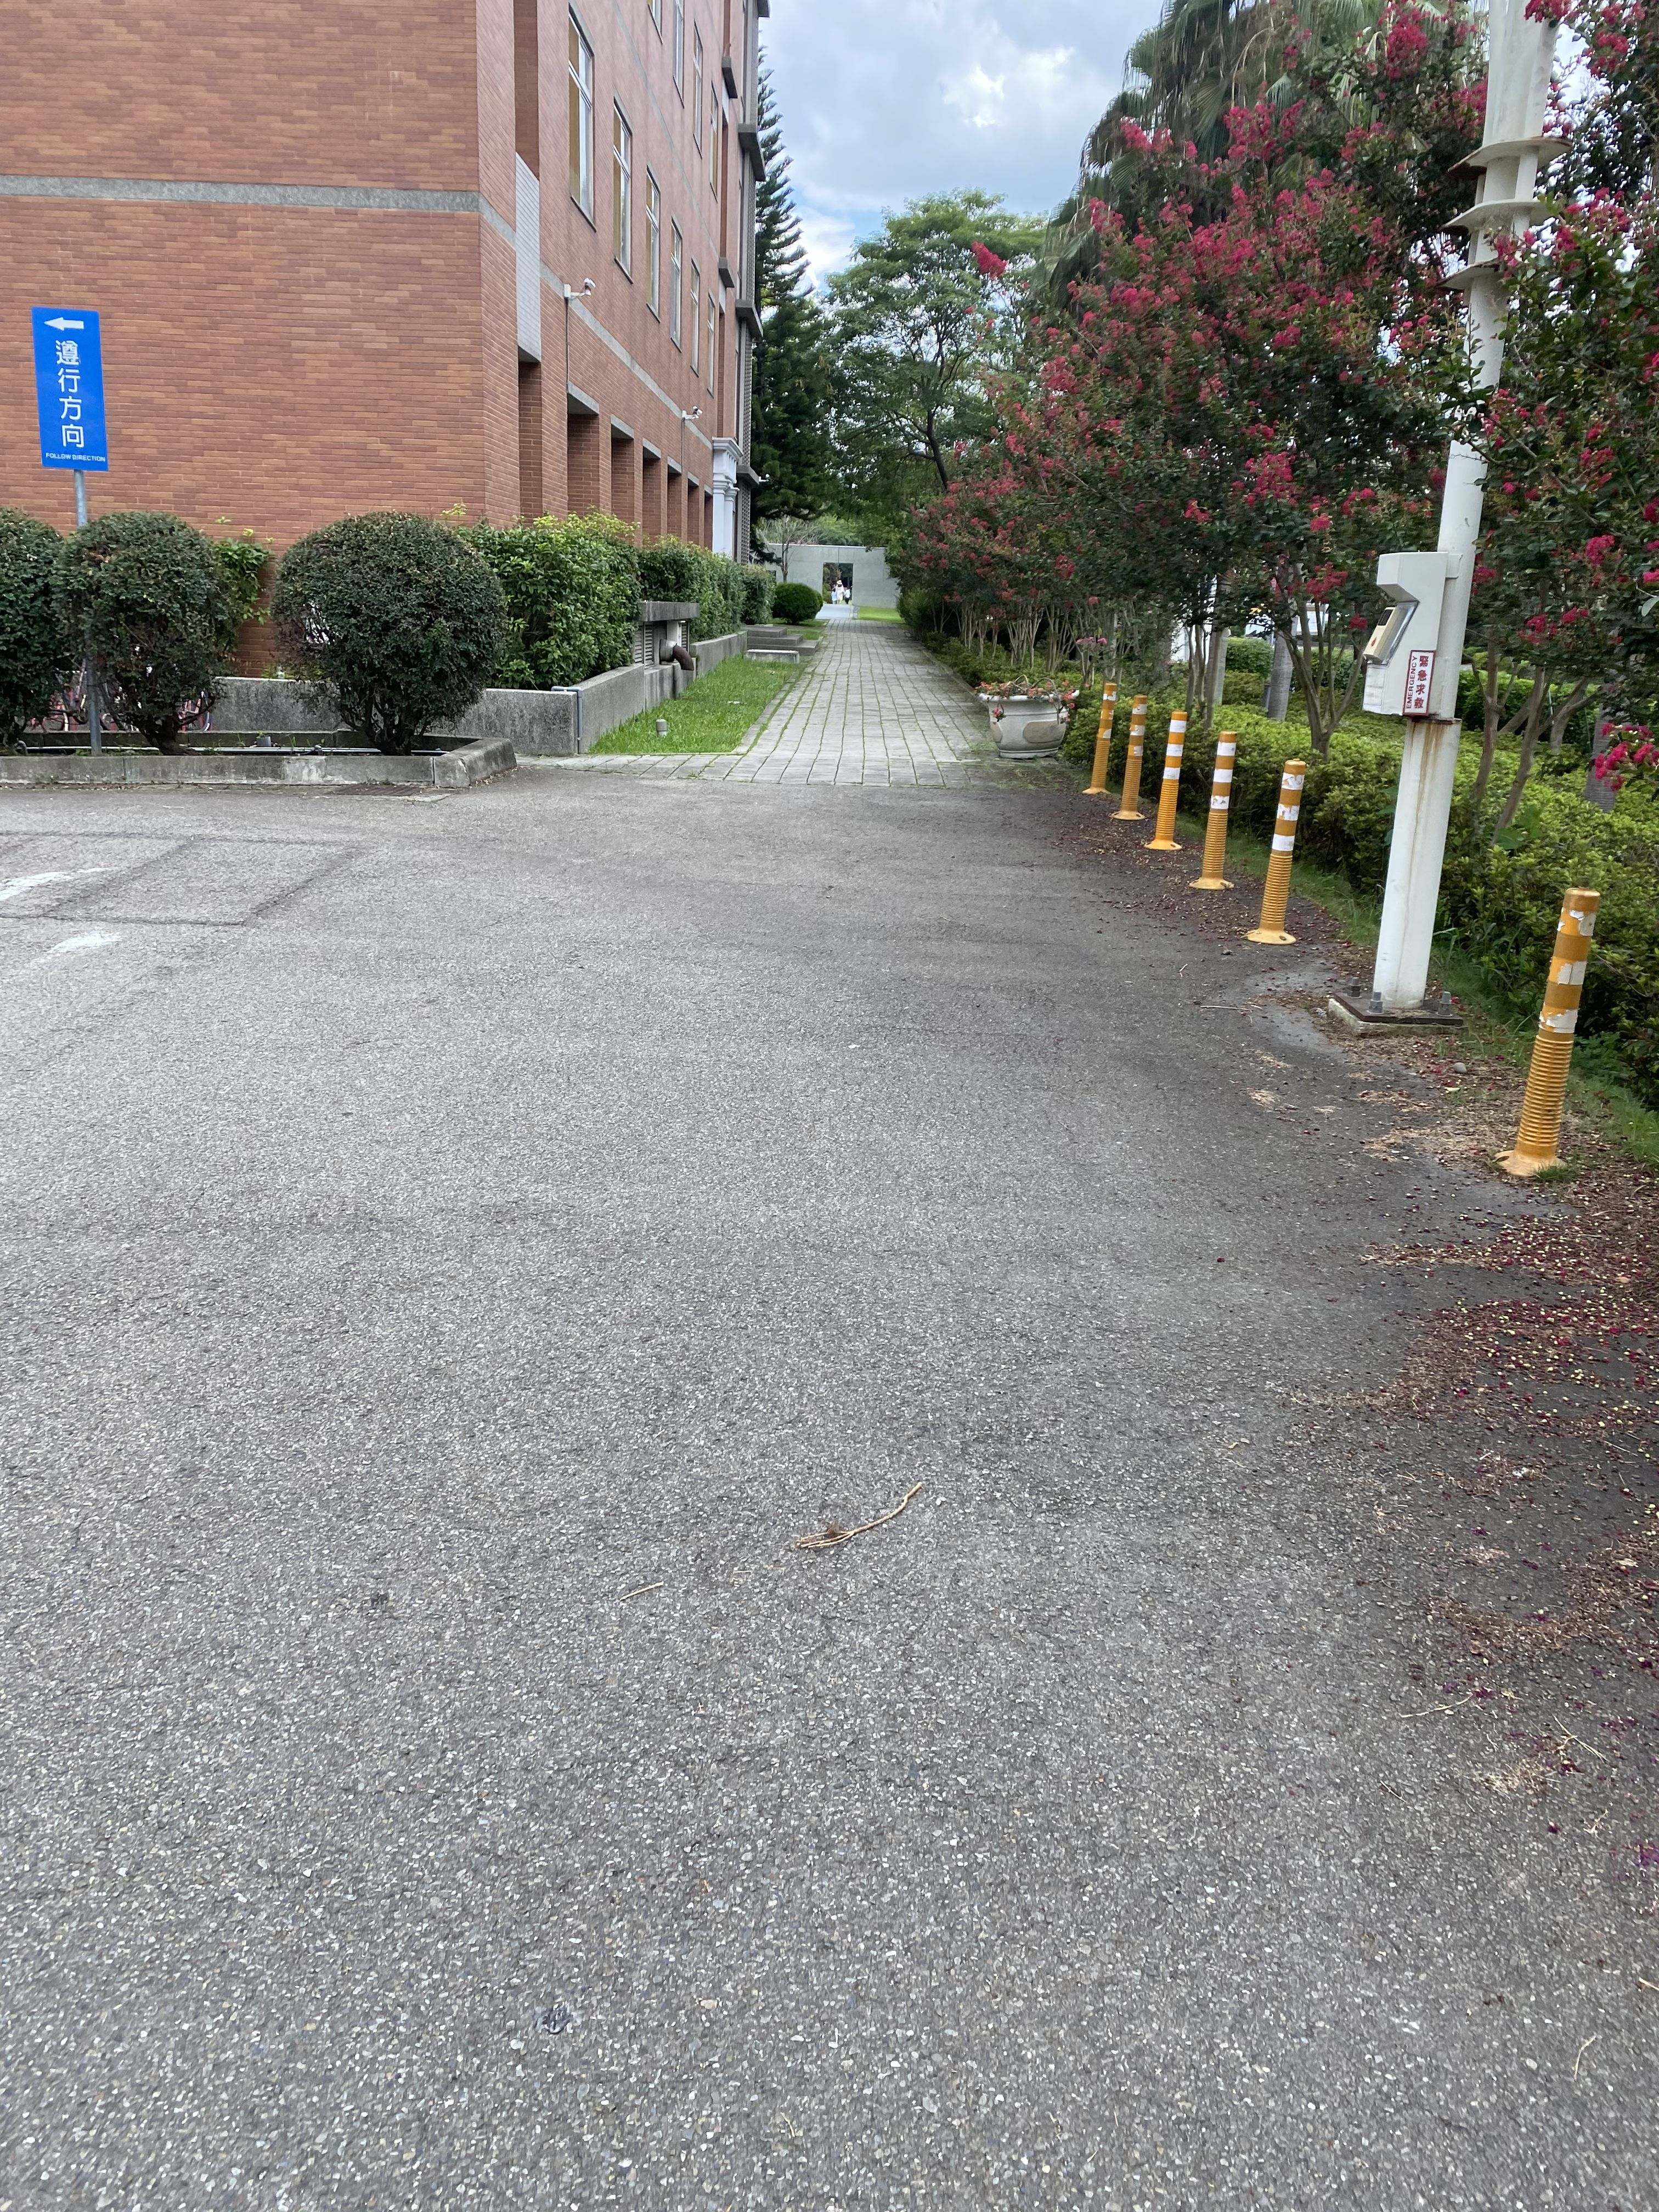0: (477, 751, 1485, 2212)
sidewalk: (721, 570, 1028, 880)
